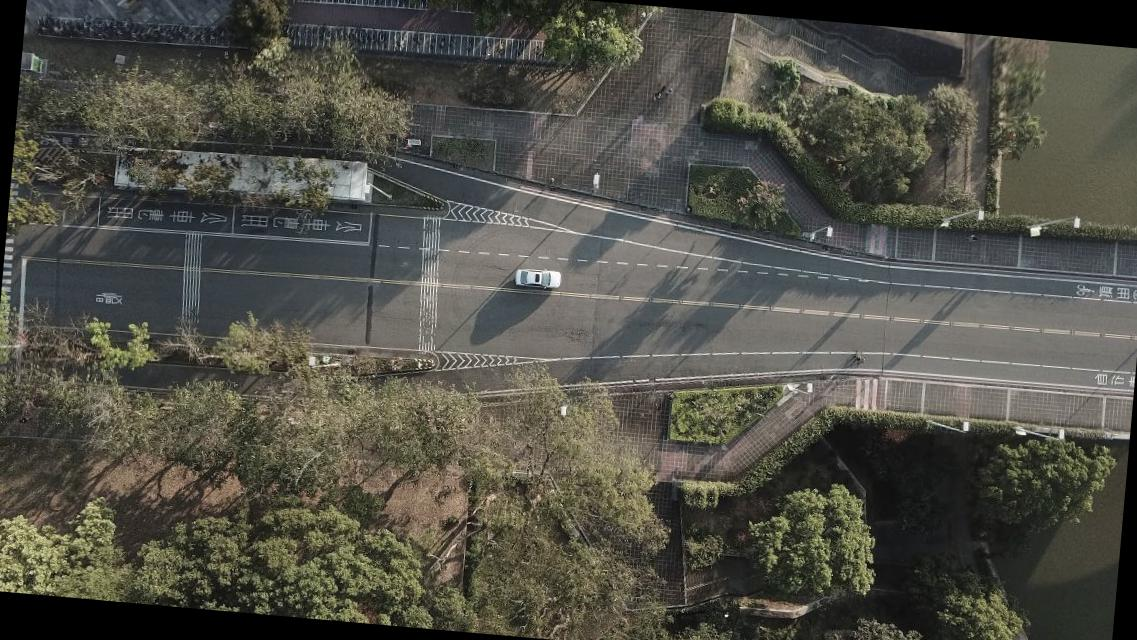vehicle: (514, 267, 562, 292)
